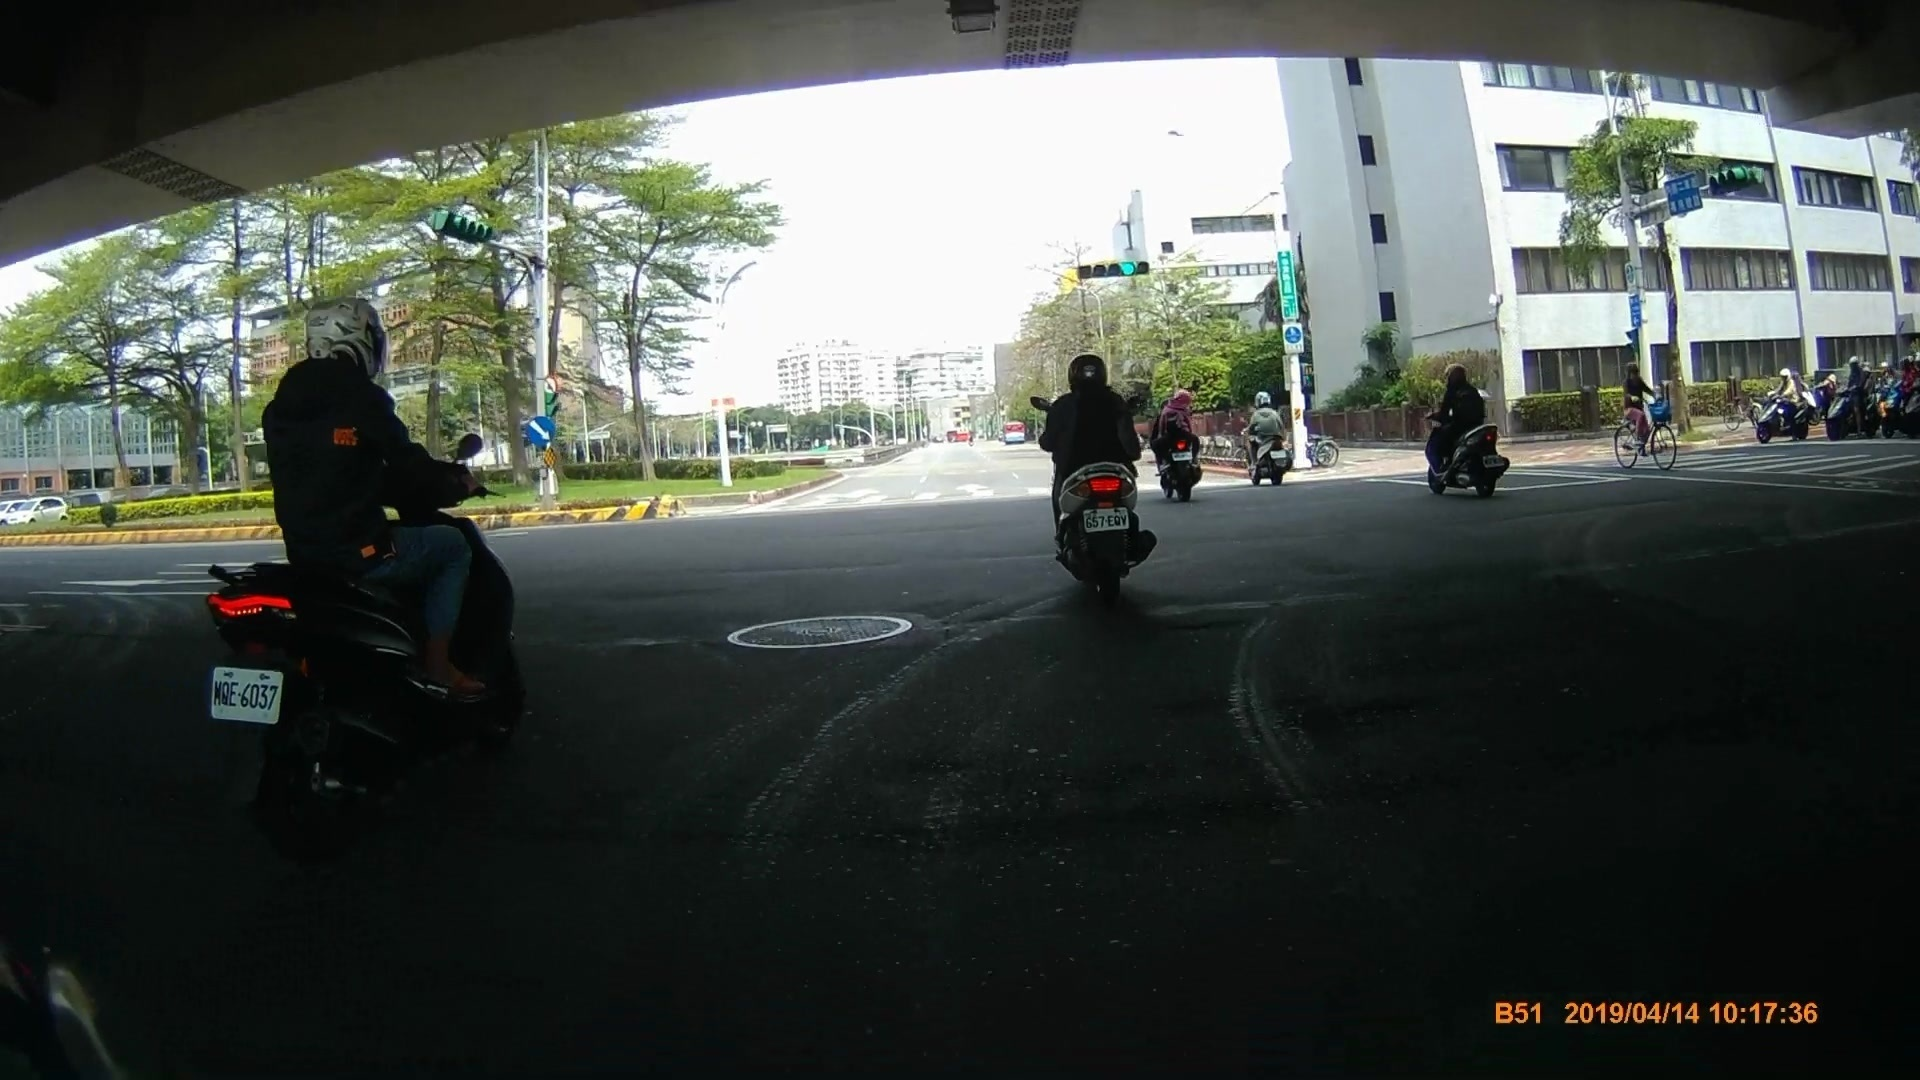License_plate: (209, 663, 286, 727), (1081, 505, 1132, 534)
